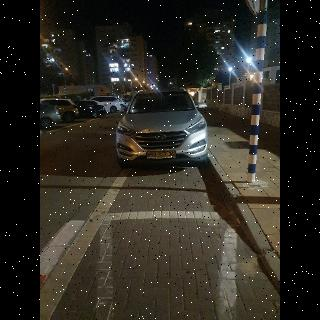LicensePlate: (151, 152, 176, 157)
